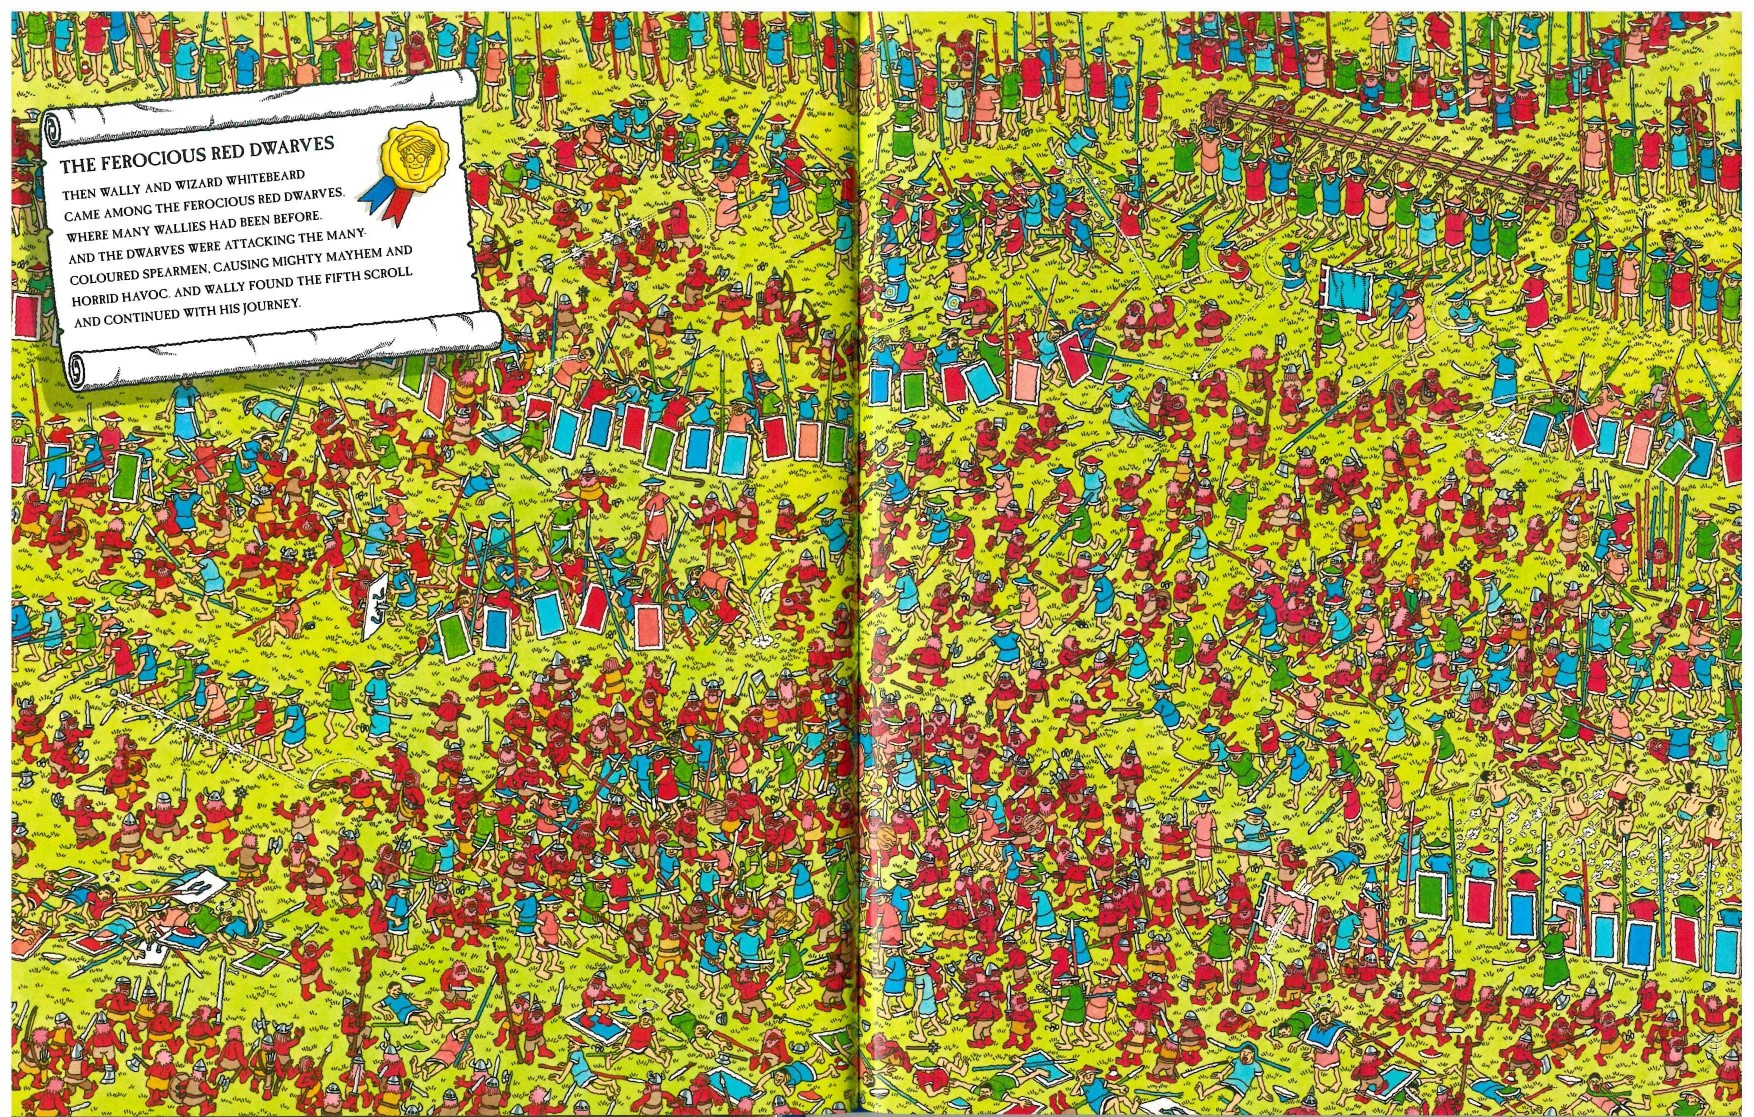waldos: (1007, 158, 1027, 204)
